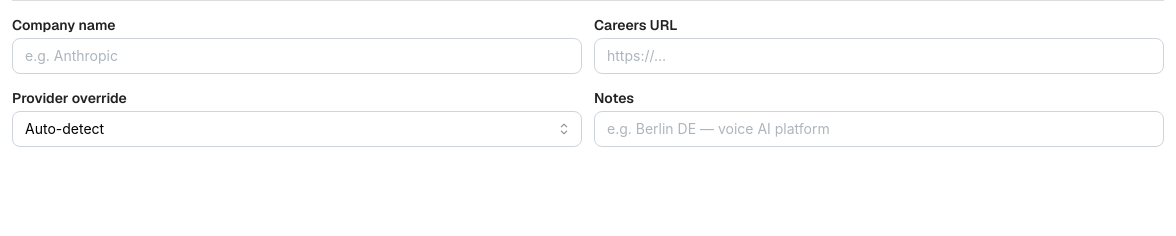
Test case: AddPortalForm — new optional fields › API endpoint field appears when provider is Greenhouse
Select "Greenhouse" in the dropdown labelled "Provider override" at (297, 129), box [12,111,582,147]
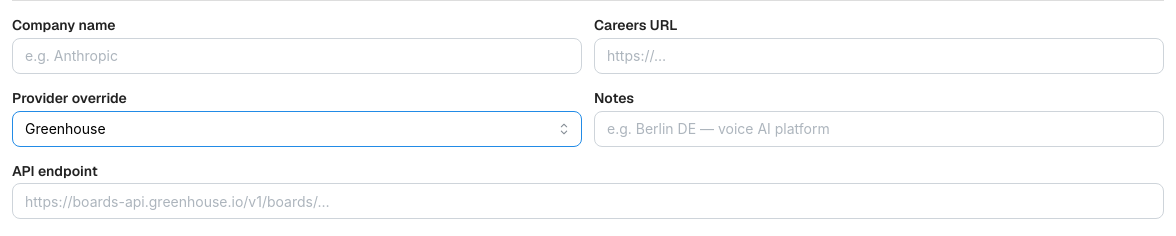
Expected: the field labelled "API endpoint" is shown, [12,183,1164,219]
